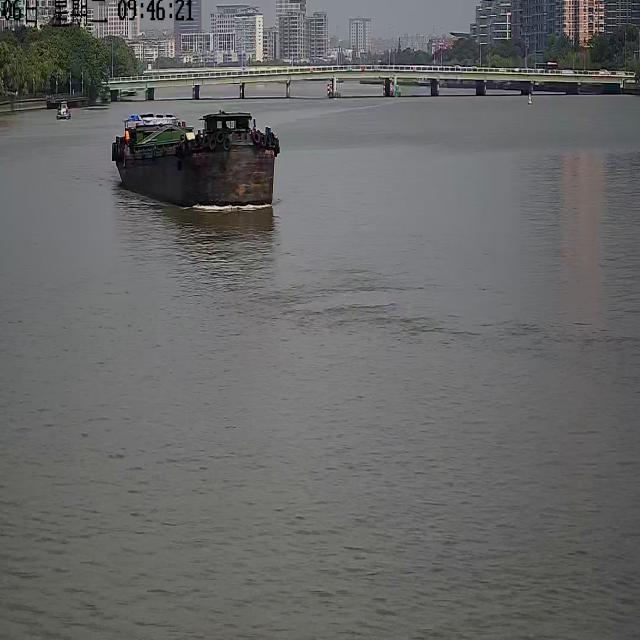ship: (111, 111, 279, 206), (56, 100, 70, 118)
